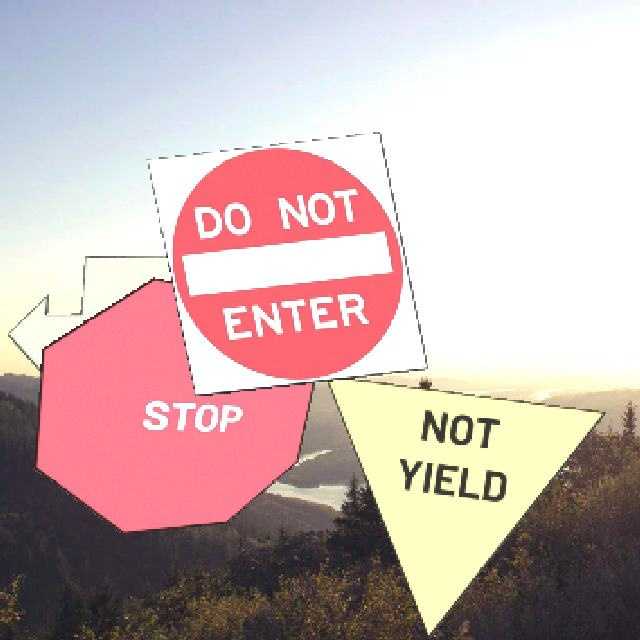DO_NOT_ENTER: (145, 130, 427, 395)
GO_AROUND: (5, 253, 287, 412)
NOT_YIELD: (323, 373, 605, 637)
STOP: (32, 276, 314, 533)
